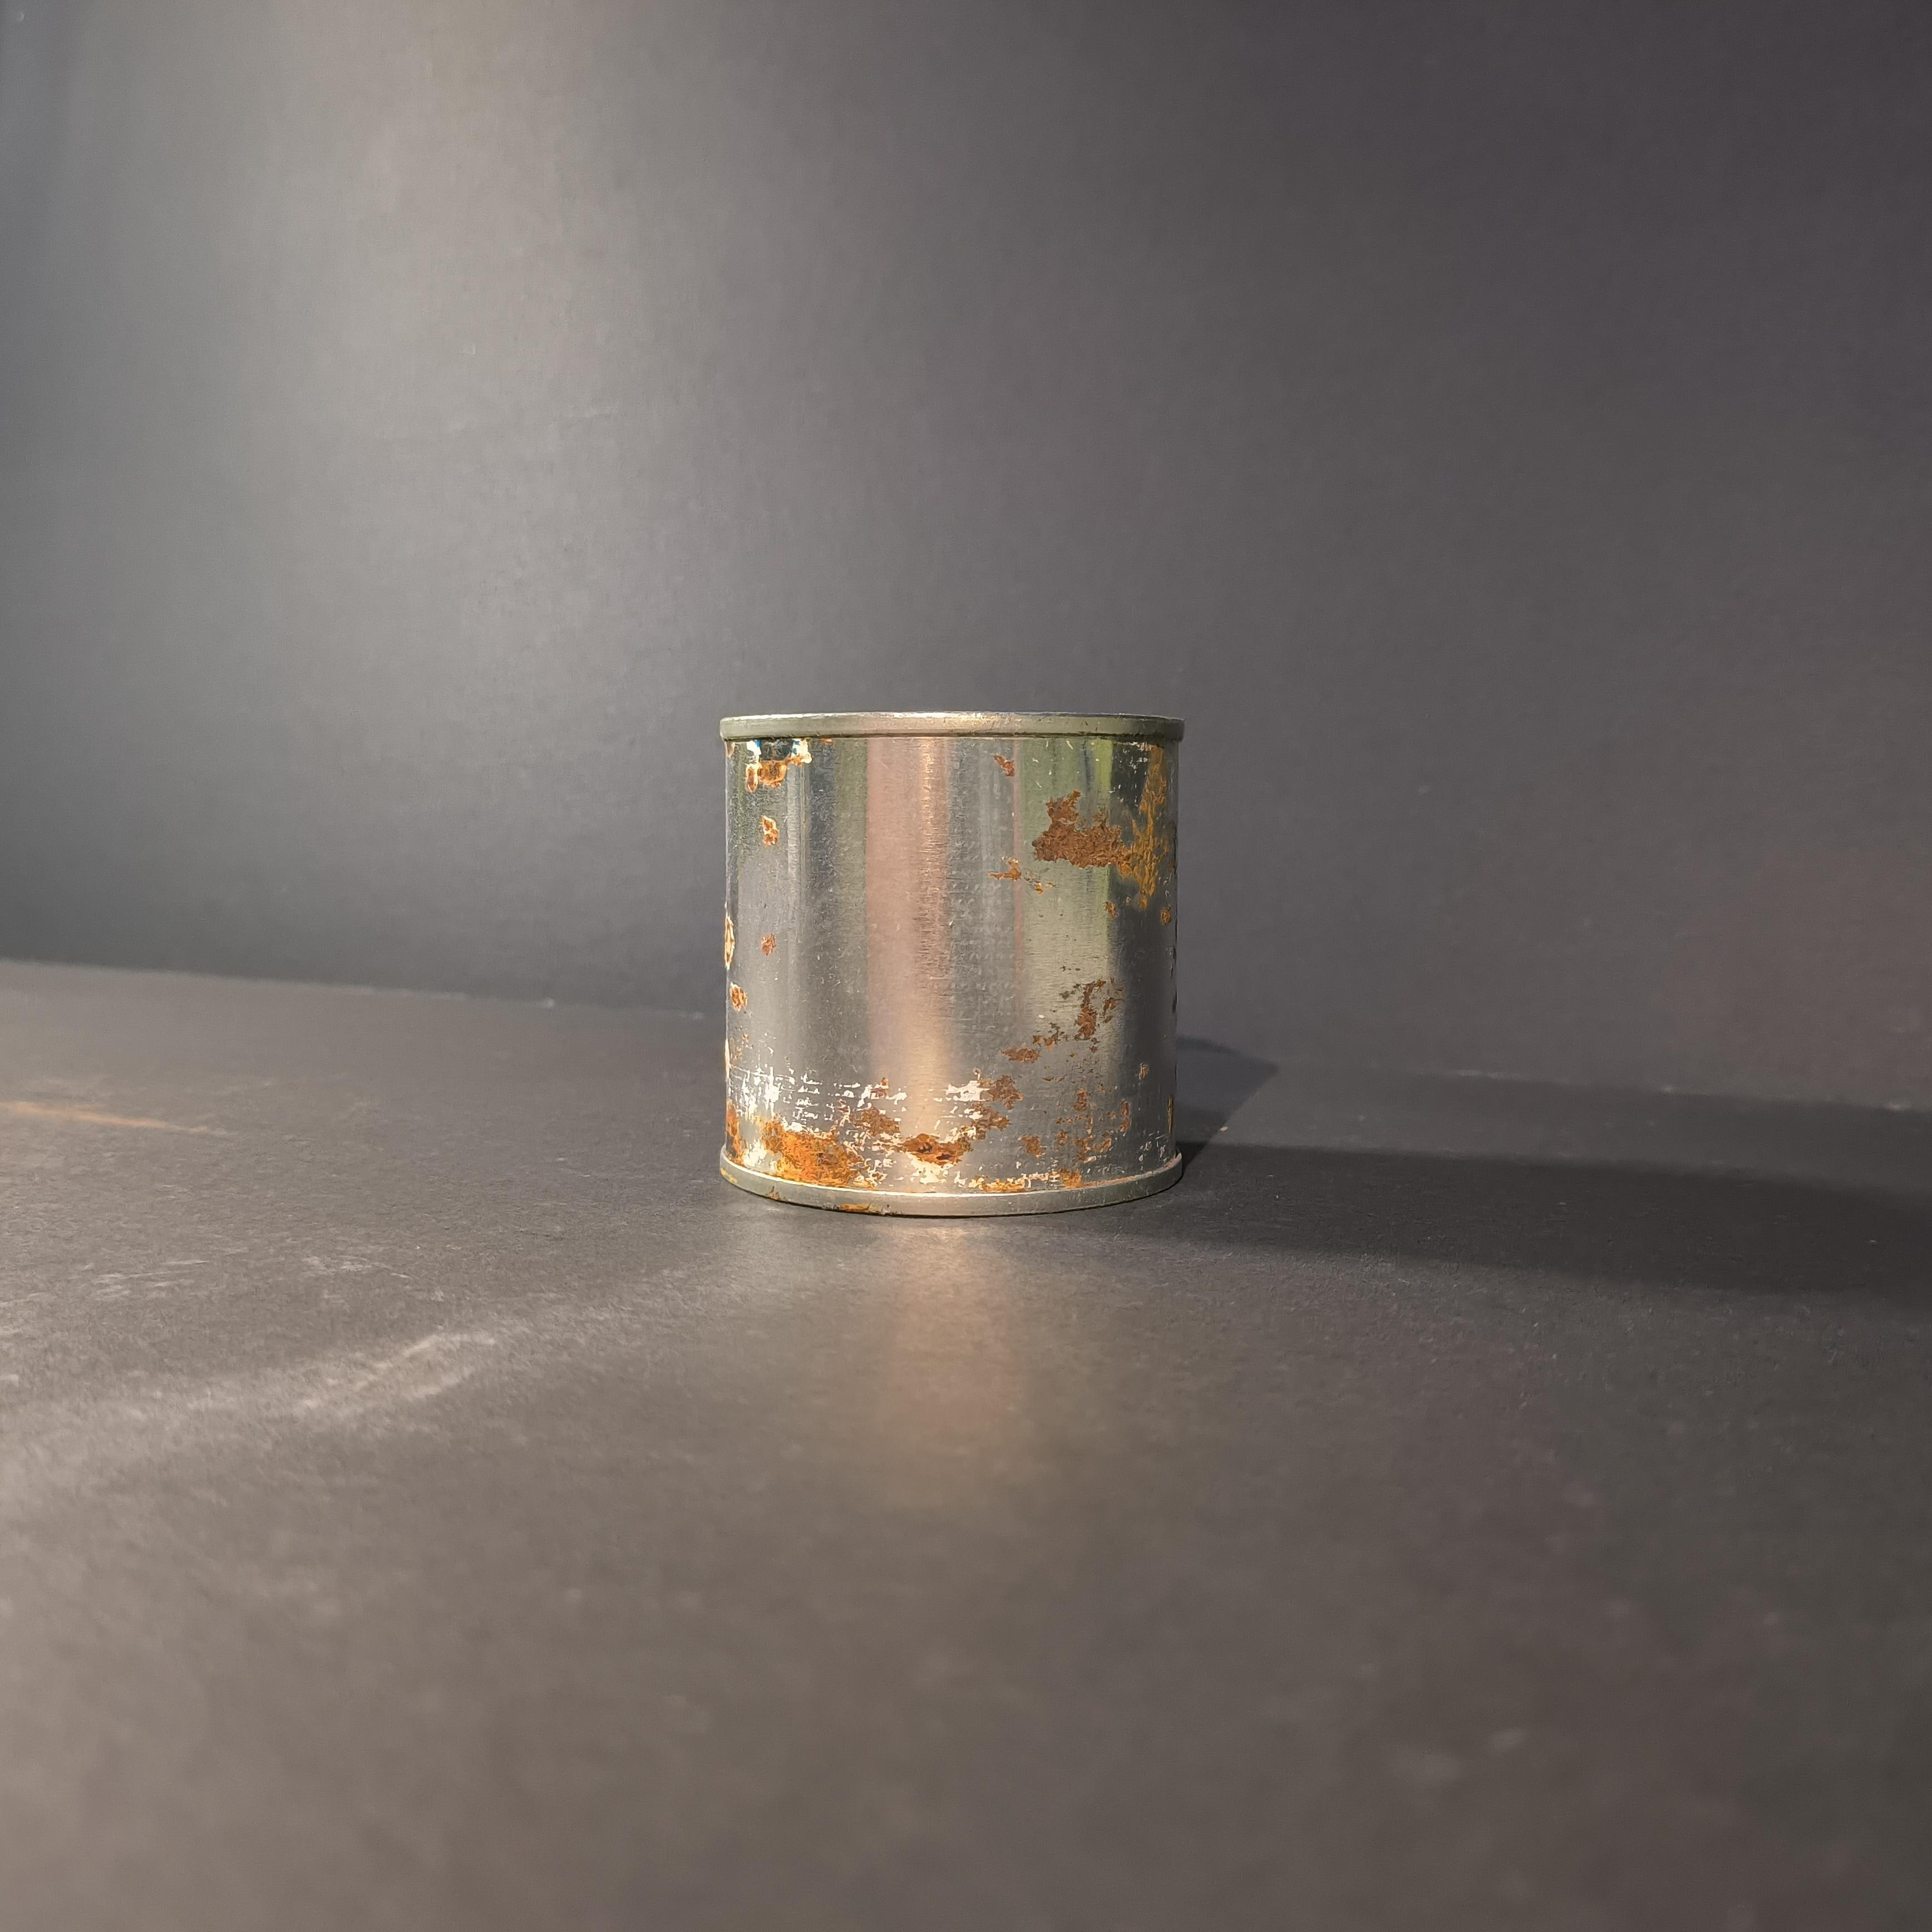Rusted: (694, 681, 1200, 1230)
